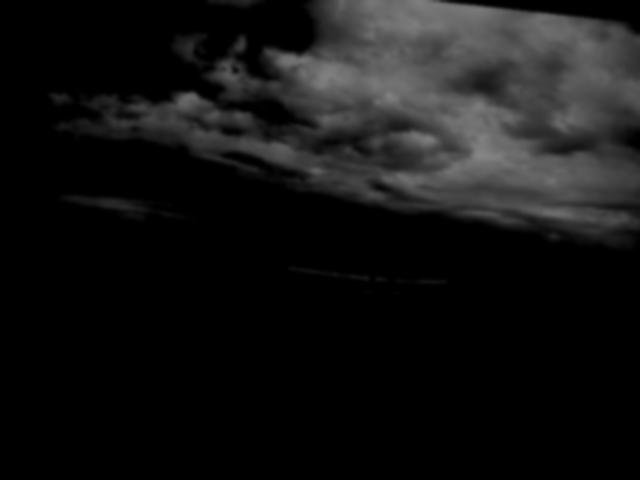hedef: (276, 246, 461, 320)
